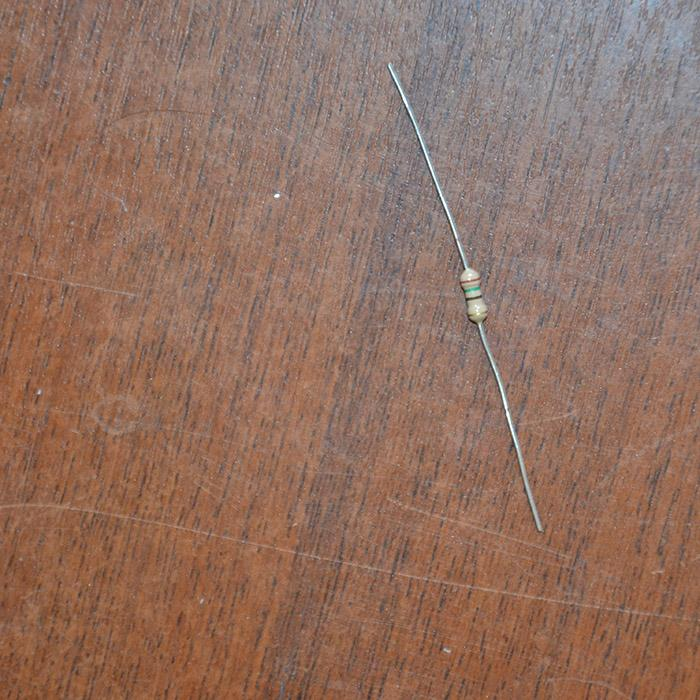resistor: (458, 266, 489, 324)
